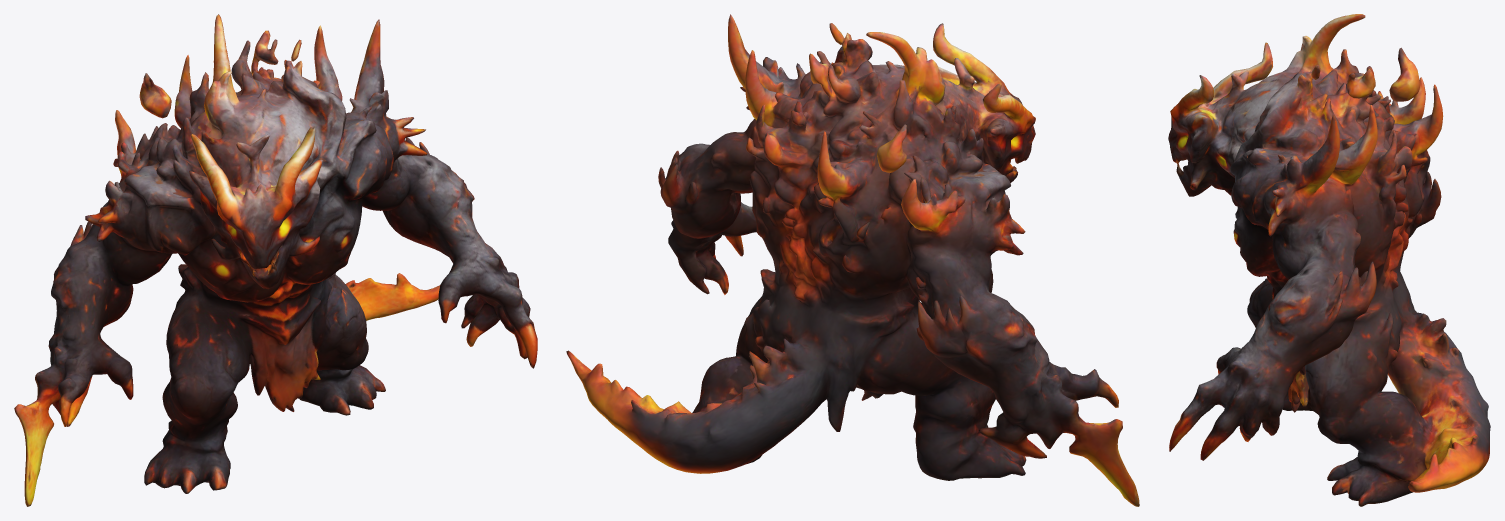
File: Meshy_AI_Stylized_3D_fire_base_1115233453_texture.glb
3 views of the same model, side by side, from view 1: azimuth 30°, elevation 25°; view 2: azimuth 150°, elevation 25°; view 3: azimuth 270°, elevation 25° (orthographic). The views are drawn at different scales.
Bounding box in the file's own units: 2.02 × 1.66 × 1.18.
1 material, 1 textured.
